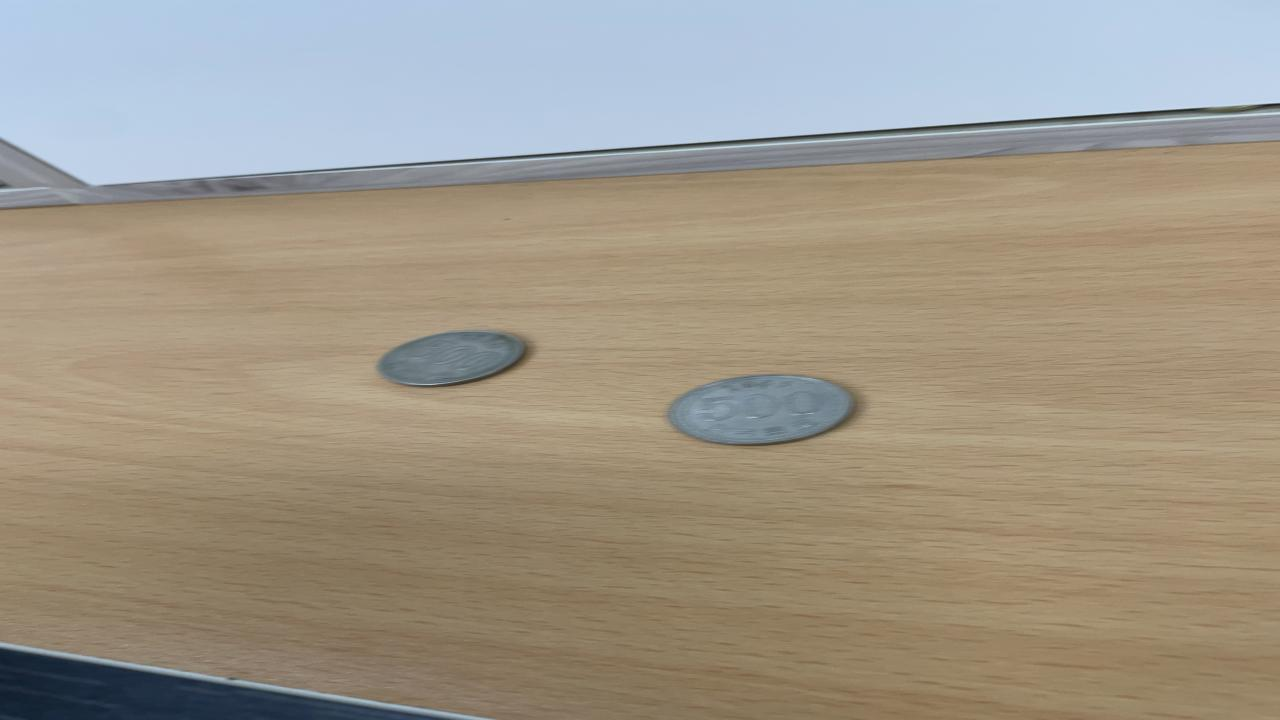coin: (664, 371, 859, 448), (371, 328, 528, 389)
